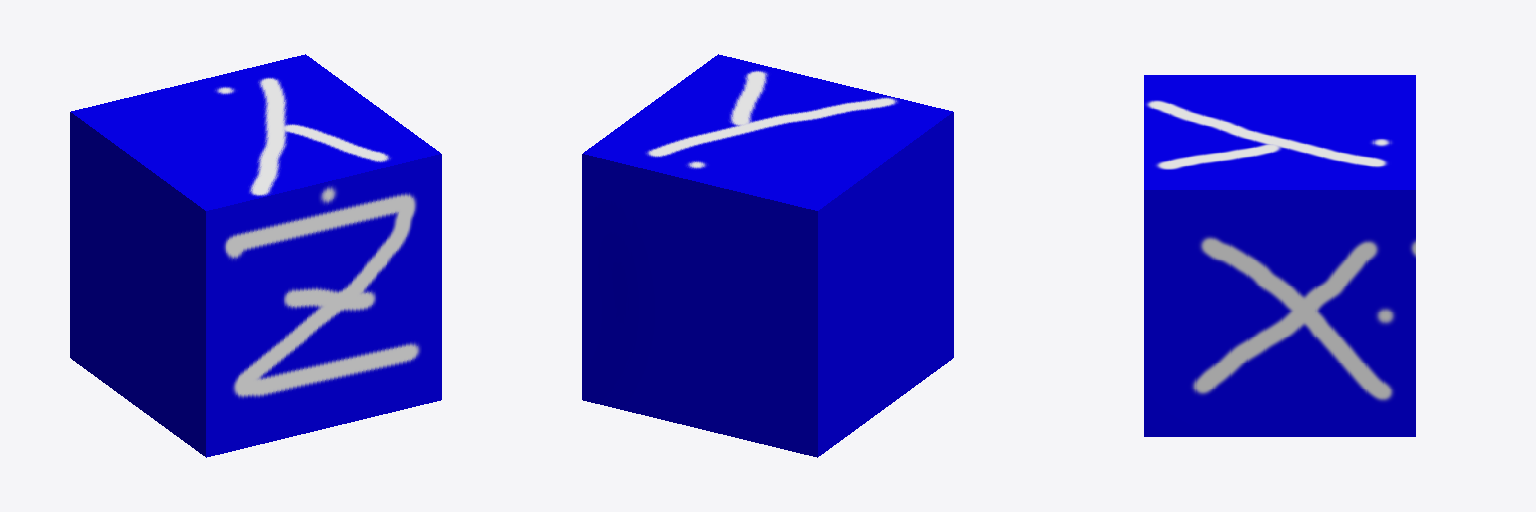
3 renders of one model, left to right at view 1: azimuth 30°, elevation 25°; view 2: azimuth 150°, elevation 25°; view 3: azimuth 270°, elevation 25°, orthographic.
Visible parts, largest first — view 1: Cube_Cube.001; view 2: Cube_Cube.001; view 3: Cube_Cube.001.
Boxes of the visible parts, <box> form: Cube_Cube.001: <box>70,54,441,457</box>; Cube_Cube.001: <box>582,54,953,457</box>; Cube_Cube.001: <box>1144,75,1415,436</box>.
Bounding box in the file's own units: 1.65 × 1.65 × 1.65.
1 materials, 1 textured.